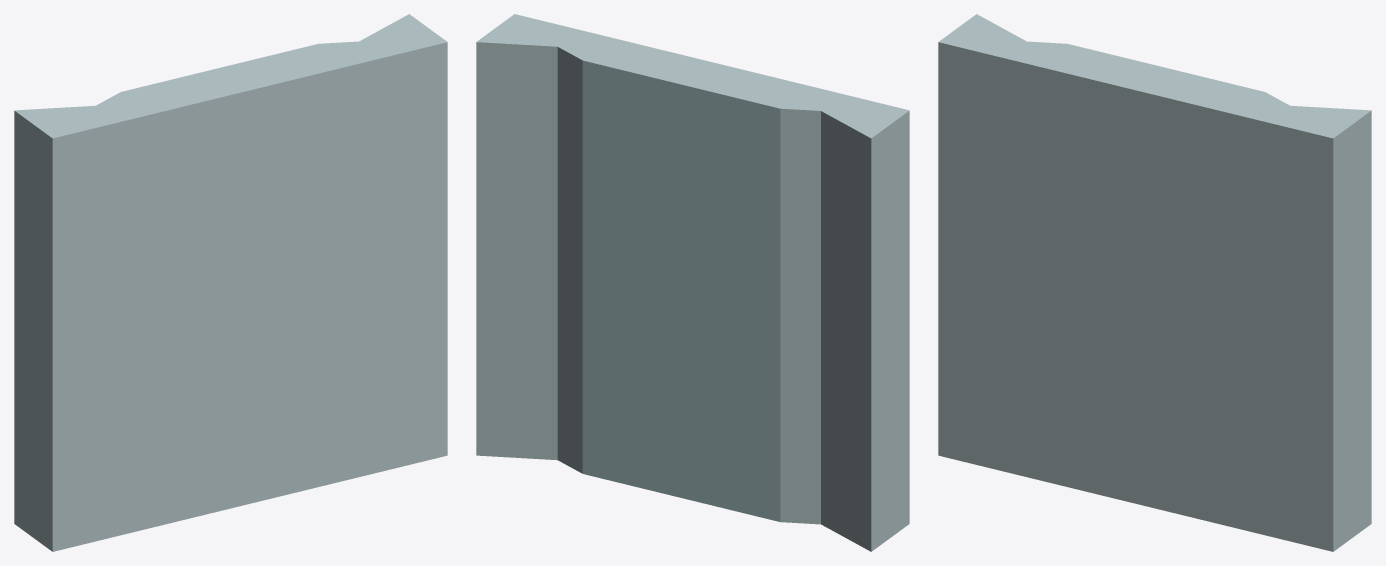
File: cliff_waterfall_stone.glb
3 views of the same model, side by side, from view 1: azimuth 30°, elevation 25°; view 2: azimuth 150°, elevation 25°; view 3: azimuth 330°, elevation 25° (orthographic).
Visible parts, largest first — view 1: cliff_waterfall_stone; view 2: cliff_waterfall_stone; view 3: cliff_waterfall_stone.
Part boxes in pixels (<box>): cliff_waterfall_stone: <box>14,14,447,551</box>; cliff_waterfall_stone: <box>476,14,909,551</box>; cliff_waterfall_stone: <box>938,14,1371,551</box>.
Size of the model in its own units: 1 by 1 by 0.1685.
